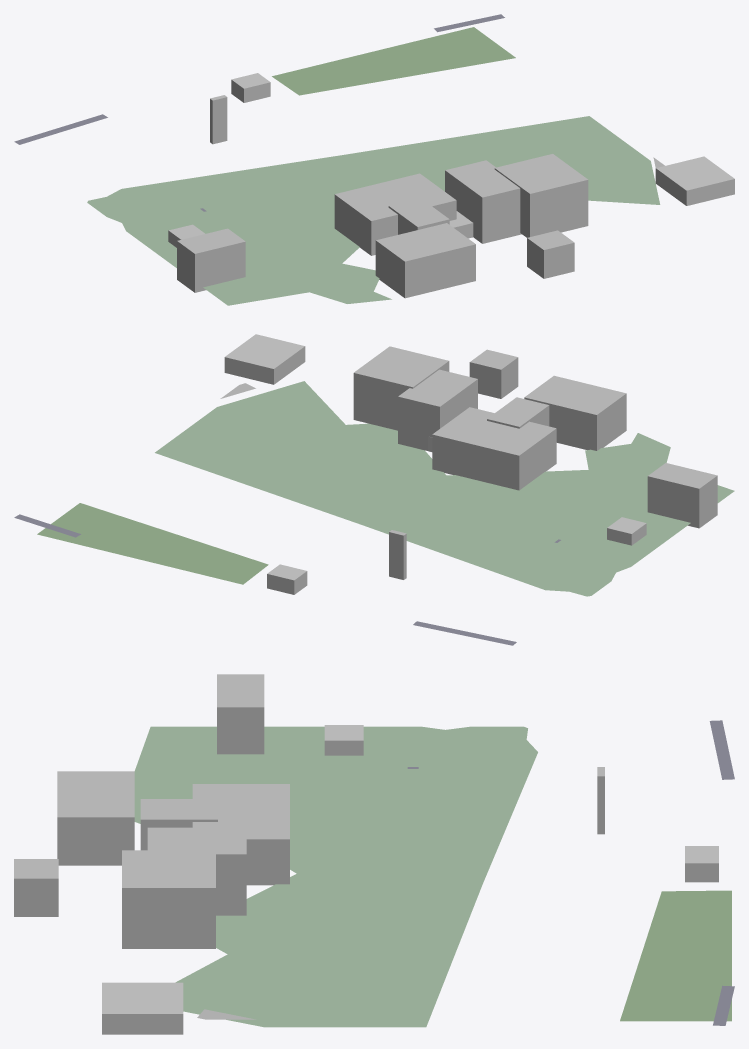
File: 128_89_mid.glb
3 renders of one model, top to bottom at view 1: azimuth 30°, elevation 25°; view 2: azimuth 150°, elevation 25°; view 3: azimuth 270°, elevation 25°, orthographic. The views are drawn at different scales.
Size of the model in its own units: 535 by 53.57 by 507.
